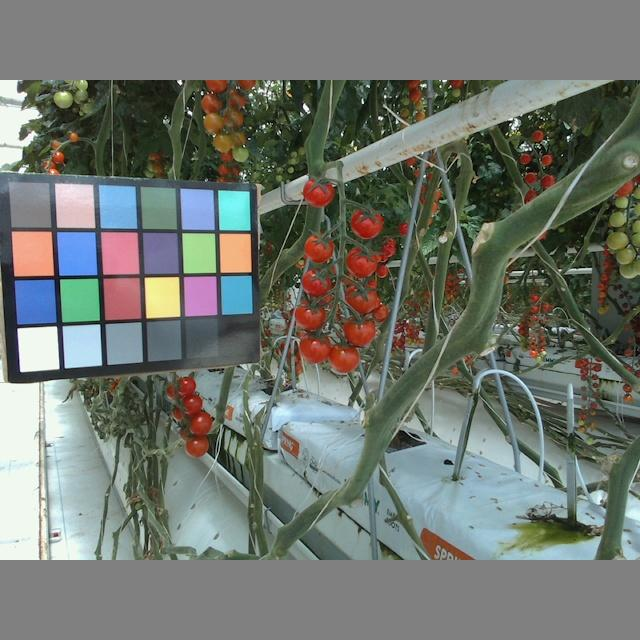red: (343, 282, 381, 314), (350, 206, 384, 239), (344, 245, 378, 278), (297, 333, 332, 365), (301, 267, 334, 299), (303, 177, 335, 209), (295, 299, 328, 330), (342, 319, 377, 348), (329, 341, 361, 372), (304, 232, 334, 264), (184, 435, 209, 459), (189, 411, 211, 436), (174, 375, 198, 393), (182, 395, 204, 413)
